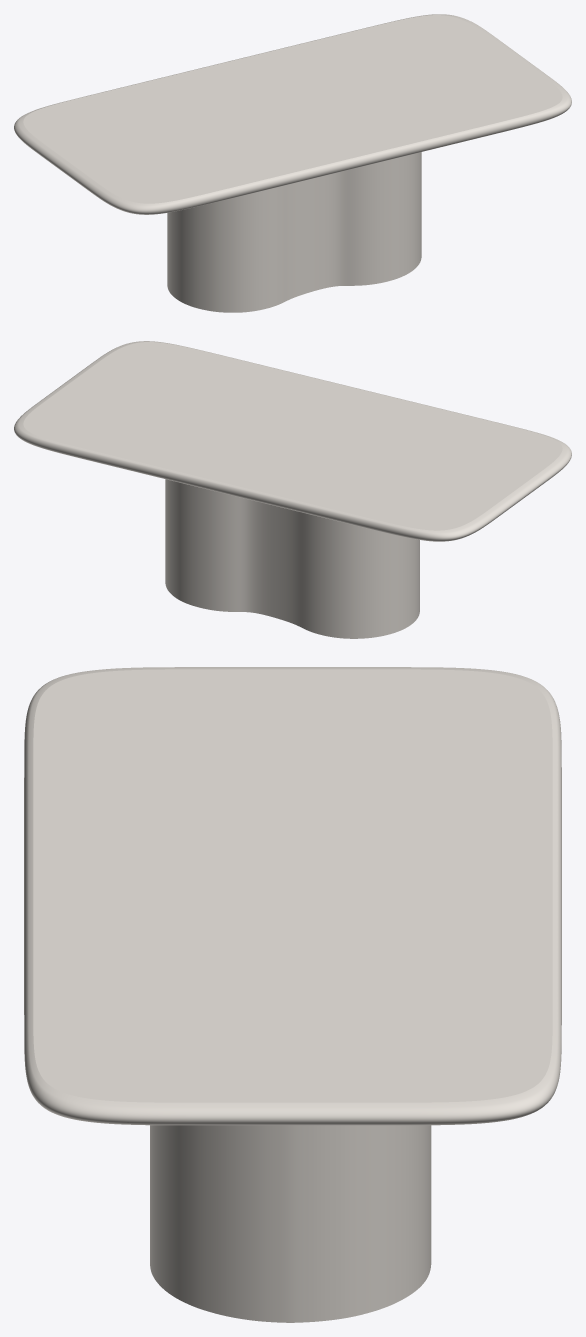
The model's file is pearlwhite_softrecta_round_riverwave.glb.
3 renders of one model, top to bottom at view 1: azimuth 30°, elevation 25°; view 2: azimuth 150°, elevation 25°; view 3: azimuth 270°, elevation 25°, orthographic. The views are drawn at different scales.
Parts seen in each view (by area): view 1: round_softrecta, riverwave; view 2: round_softrecta, riverwave; view 3: round_softrecta, riverwave.
Part boxes in pixels (x1=…): round_softrecta: x1=14, y1=14, x2=571, y2=214; riverwave: x1=167, y1=152, x2=421, y2=312; round_softrecta: x1=14, y1=341, x2=571, y2=541; riverwave: x1=165, y1=479, x2=419, y2=638; round_softrecta: x1=24, y1=667, x2=561, y2=1125; riverwave: x1=150, y1=1125, x2=431, y2=1322.
Bounding box in the file's own units: 7.5 × 2.5 × 3.8.
Materials: 1 (1 with a texture image).
